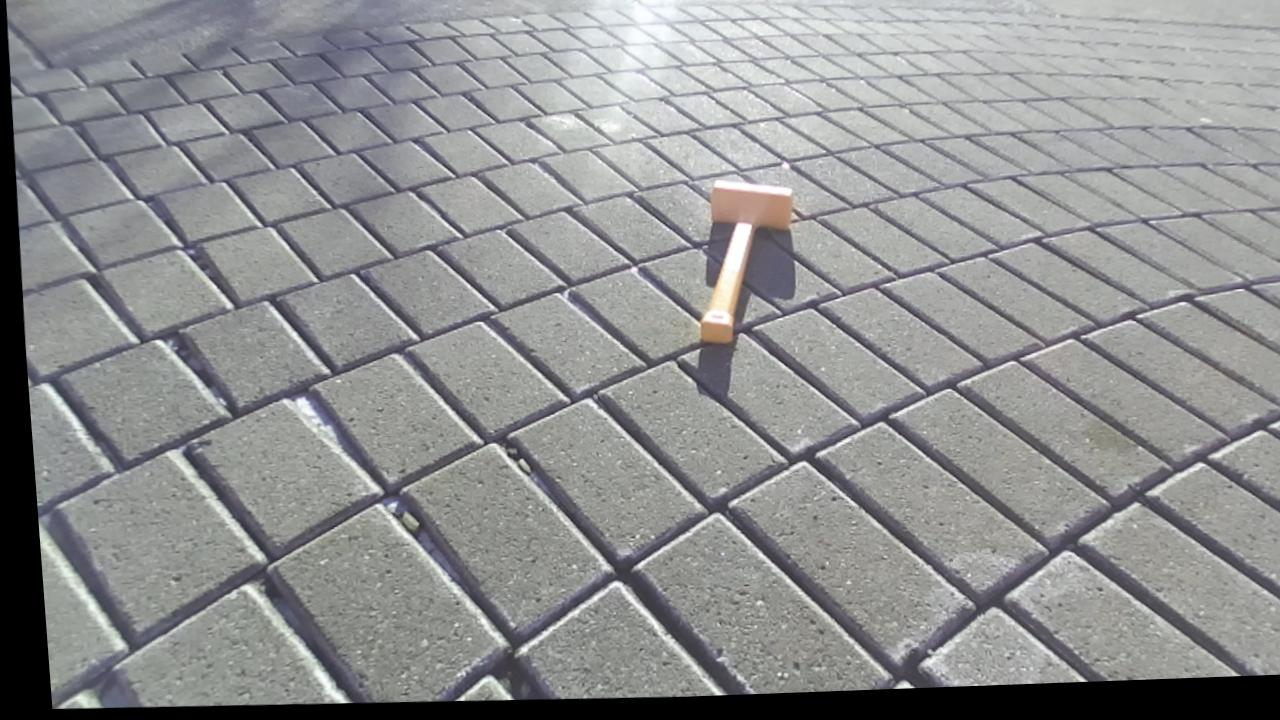mallet: (699, 180, 793, 343)
